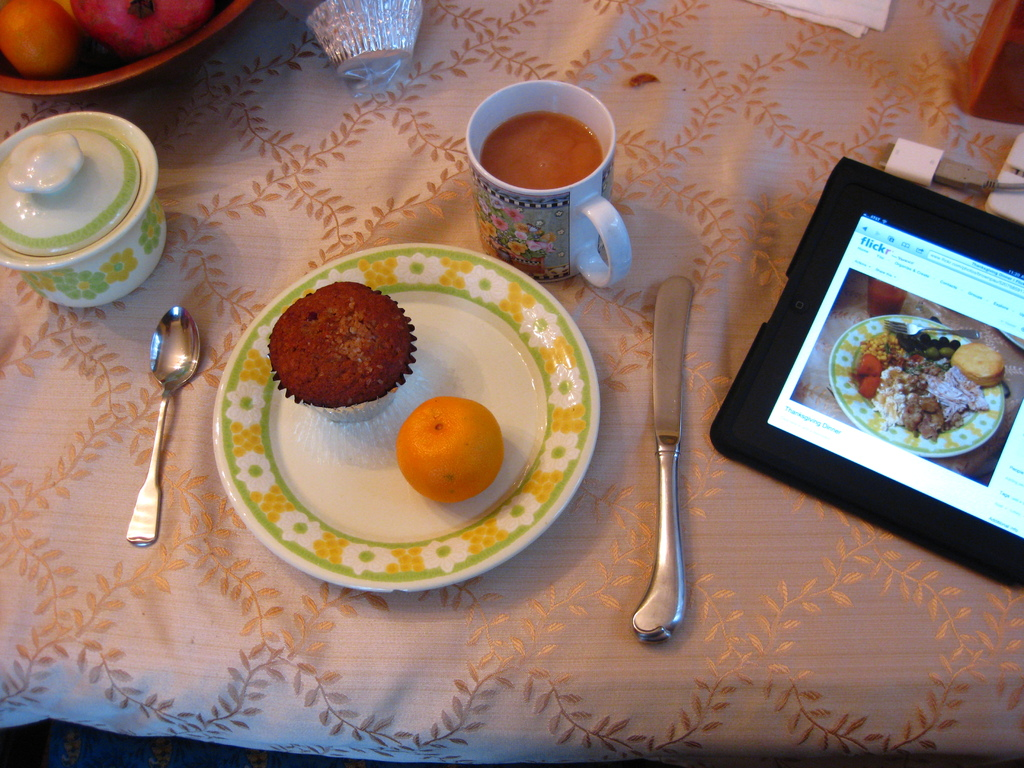Ripe: (393, 395, 504, 491)
